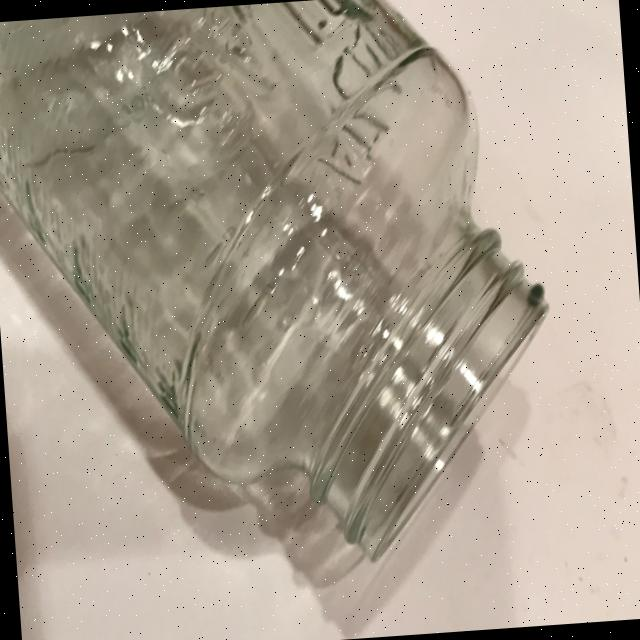glass: (0, 0, 567, 606)
